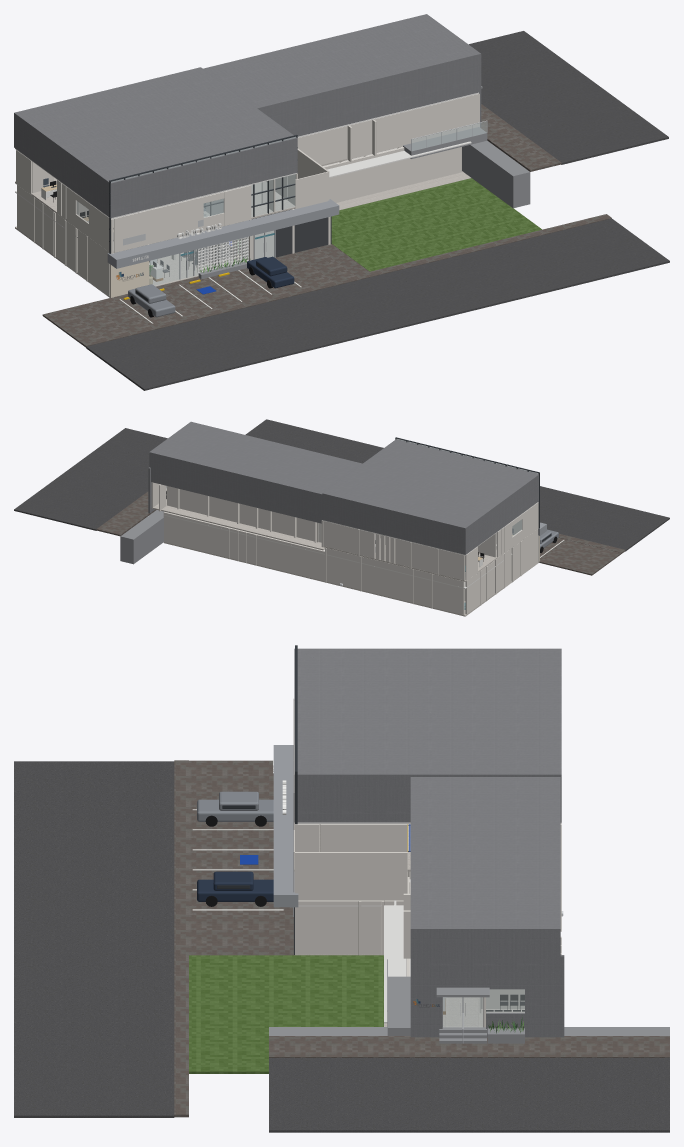
The model's file is clinica.glb.
The picture shows the model from 3 angles, top to bottom: view 1: azimuth 30°, elevation 25°; view 2: azimuth 150°, elevation 25°; view 3: azimuth 270°, elevation 25°; orthographic projection. The views are drawn at different scales.
Visible parts, largest first — view 1: luz_r1_entrada, luz_r2_consultorios_teto, luz_r2_recepcao_teto, luz_r2_entrada, luz_r1_bloco, luz_r2_consultorios, luz_r2_recepcao, luz_r1_recepcao, luz_r1_entrada_moveis, luz_r1_exames, luz_r2_rampa, vidro_pele-vidro-r1 (+5 smaller); view 2: luz_r2_consultorios_teto, luz_r2_recepcao_teto, luz_r2_entrada, luz_r1_entrada, luz_r1_exames, luz_r1_bloco, luz_r2_consultorios, luz_r2_recepcao, luz_r2_espera, luz_r2_rampa, luz_r1_recepcao, luz_sala_pediatria (+1 smaller); view 3: luz_r1_entrada, luz_r2_entrada, luz_r2_consultorios_teto, luz_r2_recepcao_teto, luz_r1_bloco, luz_r2_rampa, luz_r1_entrada_moveis, luz_r2_espera, luz_r2_recepcao, luz_r1_bloco_teto, vidro_portaria-2, vidro_janelao.
Part boxes in pixels (<box>): luz_r1_entrada: <box>42,172,669,390</box>; luz_r2_consultorios_teto: <box>14,67,297,217</box>; luz_r2_recepcao_teto: <box>203,14,481,137</box>; luz_r2_entrada: <box>462,31,668,208</box>; luz_r1_bloco: <box>15,127,541,271</box>; luz_r2_consultorios: <box>16,135,297,253</box>; luz_r2_recepcao: <box>321,93,487,166</box>; luz_r1_recepcao: <box>66,221,247,297</box>; luz_r1_entrada_moveis: <box>123,219,294,317</box>; luz_r1_exames: <box>17,185,66,265</box>; luz_r2_rampa: <box>297,126,347,200</box>; vidro_pele-vidro-r1: <box>111,137,296,216</box>; luz_r2_consultorios_teto: <box>322,439,538,554</box>; luz_r2_recepcao_teto: <box>149,421,362,523</box>; luz_r2_entrada: <box>14,428,167,564</box>; luz_r1_entrada: <box>245,419,669,575</box>; luz_r1_exames: <box>325,548,505,614</box>; luz_r1_bloco: <box>163,512,503,616</box>; luz_r2_consultorios: <box>395,437,539,580</box>; luz_r2_recepcao: <box>151,486,324,550</box>; luz_r2_espera: <box>323,521,411,568</box>; luz_r2_rampa: <box>258,508,323,547</box>; luz_r1_recepcao: <box>505,529,539,586</box>; luz_sala_pediatria: <box>323,538,504,581</box>; luz_r1_entrada: <box>14,745,319,1117</box>; luz_r2_entrada: <box>269,955,669,1132</box>; luz_r2_consultorios_teto: <box>294,648,561,822</box>; luz_r2_recepcao_teto: <box>410,777,560,981</box>; luz_r1_bloco: <box>189,871,561,1073</box>; luz_r2_rampa: <box>295,823,561,900</box>; luz_r1_entrada_moveis: <box>197,791,273,906</box>; luz_r2_espera: <box>320,822,561,851</box>; luz_r2_recepcao: <box>387,893,524,1027</box>; luz_r1_bloco_teto: <box>384,879,410,1023</box>; vidro_portaria-2: <box>443,997,482,1026</box>; vidro_janelao: <box>486,989,524,1012</box>.
Size of the model in its own units: 54 by 9.93 by 36.
53 materials, 13 textured.
